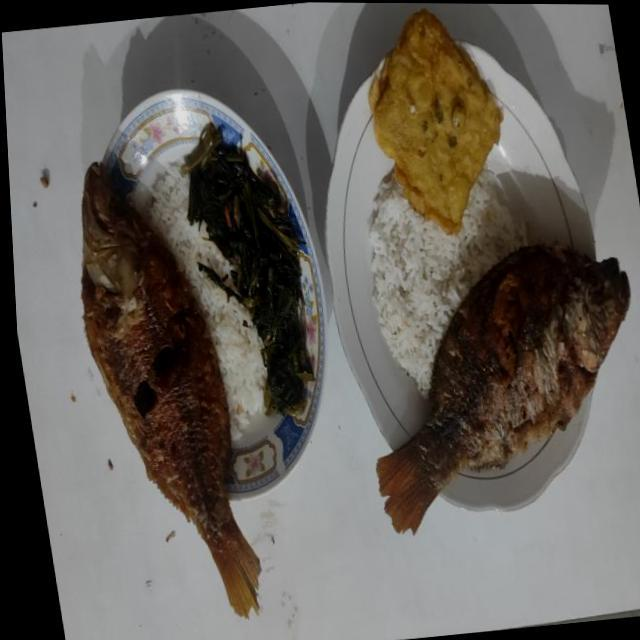ikan_mujair: (80, 162, 260, 616), (376, 244, 630, 533)
nasi_putih: (368, 167, 528, 397), (149, 165, 266, 439)
tumis_kangkung: (180, 123, 314, 414)
